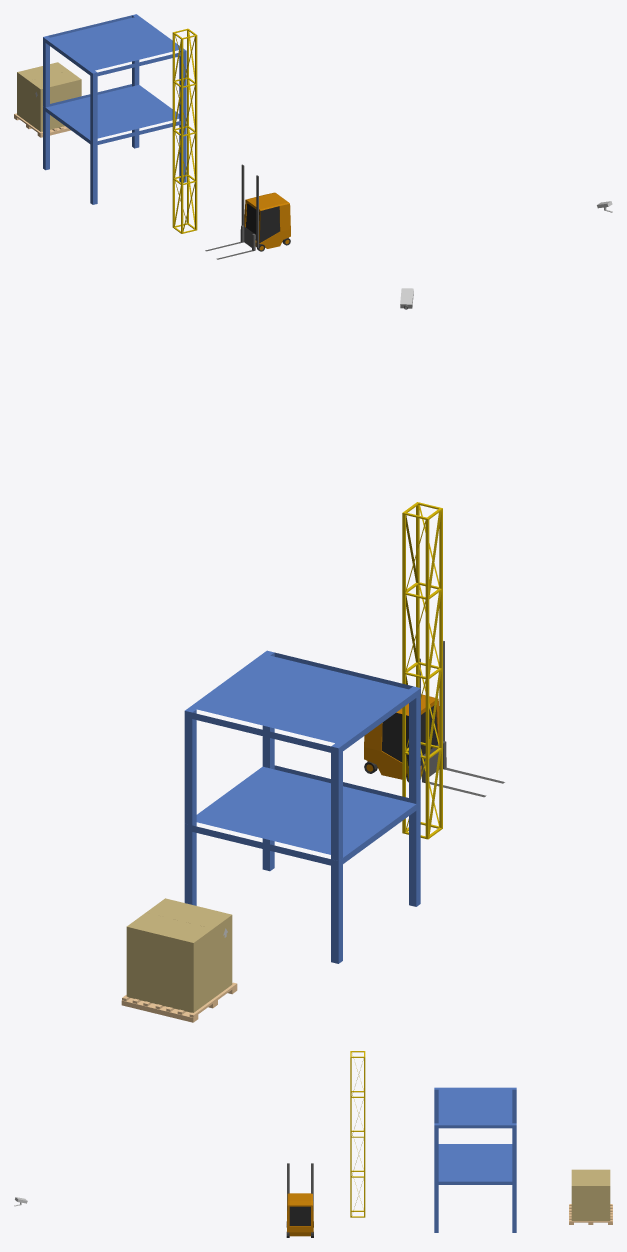
Rendered from models_2.fbx.
The picture shows the model from 3 angles, top to bottom: view 1: azimuth 30°, elevation 25°; view 2: azimuth 150°, elevation 25°; view 3: azimuth 270°, elevation 25°; orthographic projection. The views are drawn at different scales.
Visible parts, largest first — view 1: Plane.020, Plane.019, Cube.009, Cube.010, Plane.021; view 2: Plane.020, Cube.009, Plane.019, Cube.010, Plane.018; view 3: Plane.020, Cube.009, Cube.010, Plane.019.
Part boxes in pixels (left/top/right/bottom): Plane.020: left=43, top=14, right=186, bottom=204; Plane.019: left=172, top=28, right=197, bottom=233; Cube.009: left=17, top=62, right=81, bottom=131; Cube.010: left=241, top=164, right=290, bottom=251; Plane.021: left=205, top=225, right=255, bottom=259; Plane.020: left=184, top=650, right=420, bottom=963; Cube.009: left=126, top=898, right=232, bottom=1012; Plane.019: left=402, top=502, right=442, bottom=839; Cube.010: left=364, top=641, right=444, bottom=782; Plane.018: left=121, top=982, right=237, bottom=1022; Plane.020: left=434, top=1087, right=516, bottom=1232; Cube.009: left=571, top=1169, right=610, bottom=1220; Cube.010: left=286, top=1163, right=313, bottom=1237; Plane.019: left=350, top=1051, right=365, bottom=1217.
Size of the model in its own units: 1218 by 855 by 2897.
